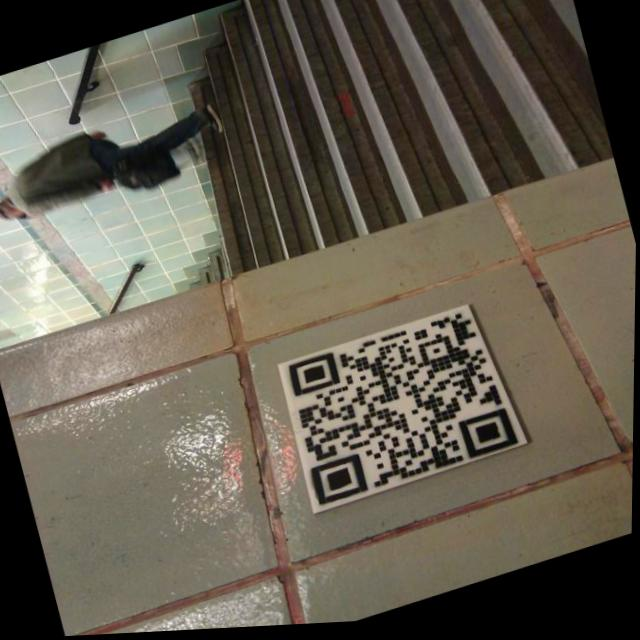qrcode: (283, 308, 522, 511)
